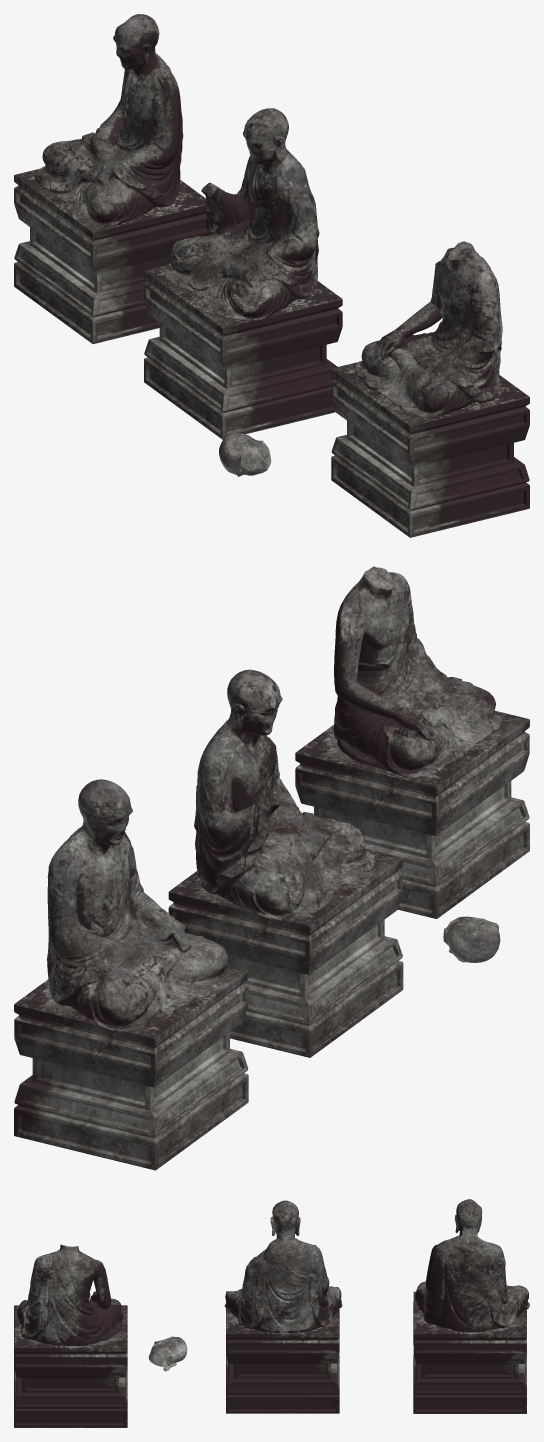
File: Monk Statue.fbx
The picture shows the model from 3 angles, top to bottom: view 1: azimuth 30°, elevation 25°; view 2: azimuth 150°, elevation 25°; view 3: azimuth 270°, elevation 25°; orthographic projection. The views are drawn at different scales.
Parts seen in each view (by area): view 1: CTI Monk Statue 02.Shape, CTI Monk Statue 01.Shape, CTI Monk Statue 03.Shape; view 2: CTI Monk Statue 03.Shape, CTI Monk Statue 02.Shape, CTI Monk Statue 01.Shape; view 3: CTI Monk Statue 01.Shape, CTI Monk Statue 03.Shape, CTI Monk Statue 02.Shape.
Part boxes in pixels (bbox=[...]): CTI Monk Statue 02.Shape: bbox=[144, 108, 342, 439]; CTI Monk Statue 01.Shape: bbox=[219, 241, 529, 537]; CTI Monk Statue 03.Shape: bbox=[14, 14, 211, 343]; CTI Monk Statue 03.Shape: bbox=[14, 779, 248, 1170]; CTI Monk Statue 02.Shape: bbox=[168, 669, 403, 1057]; CTI Monk Statue 01.Shape: bbox=[295, 566, 529, 962]; CTI Monk Statue 01.Shape: bbox=[14, 1244, 187, 1427]; CTI Monk Statue 03.Shape: bbox=[413, 1199, 529, 1413]; CTI Monk Statue 02.Shape: bbox=[224, 1200, 342, 1413].
Size of the model in its own units: 182 by 243 by 566.
Materials: 1 (1 with a texture image).
